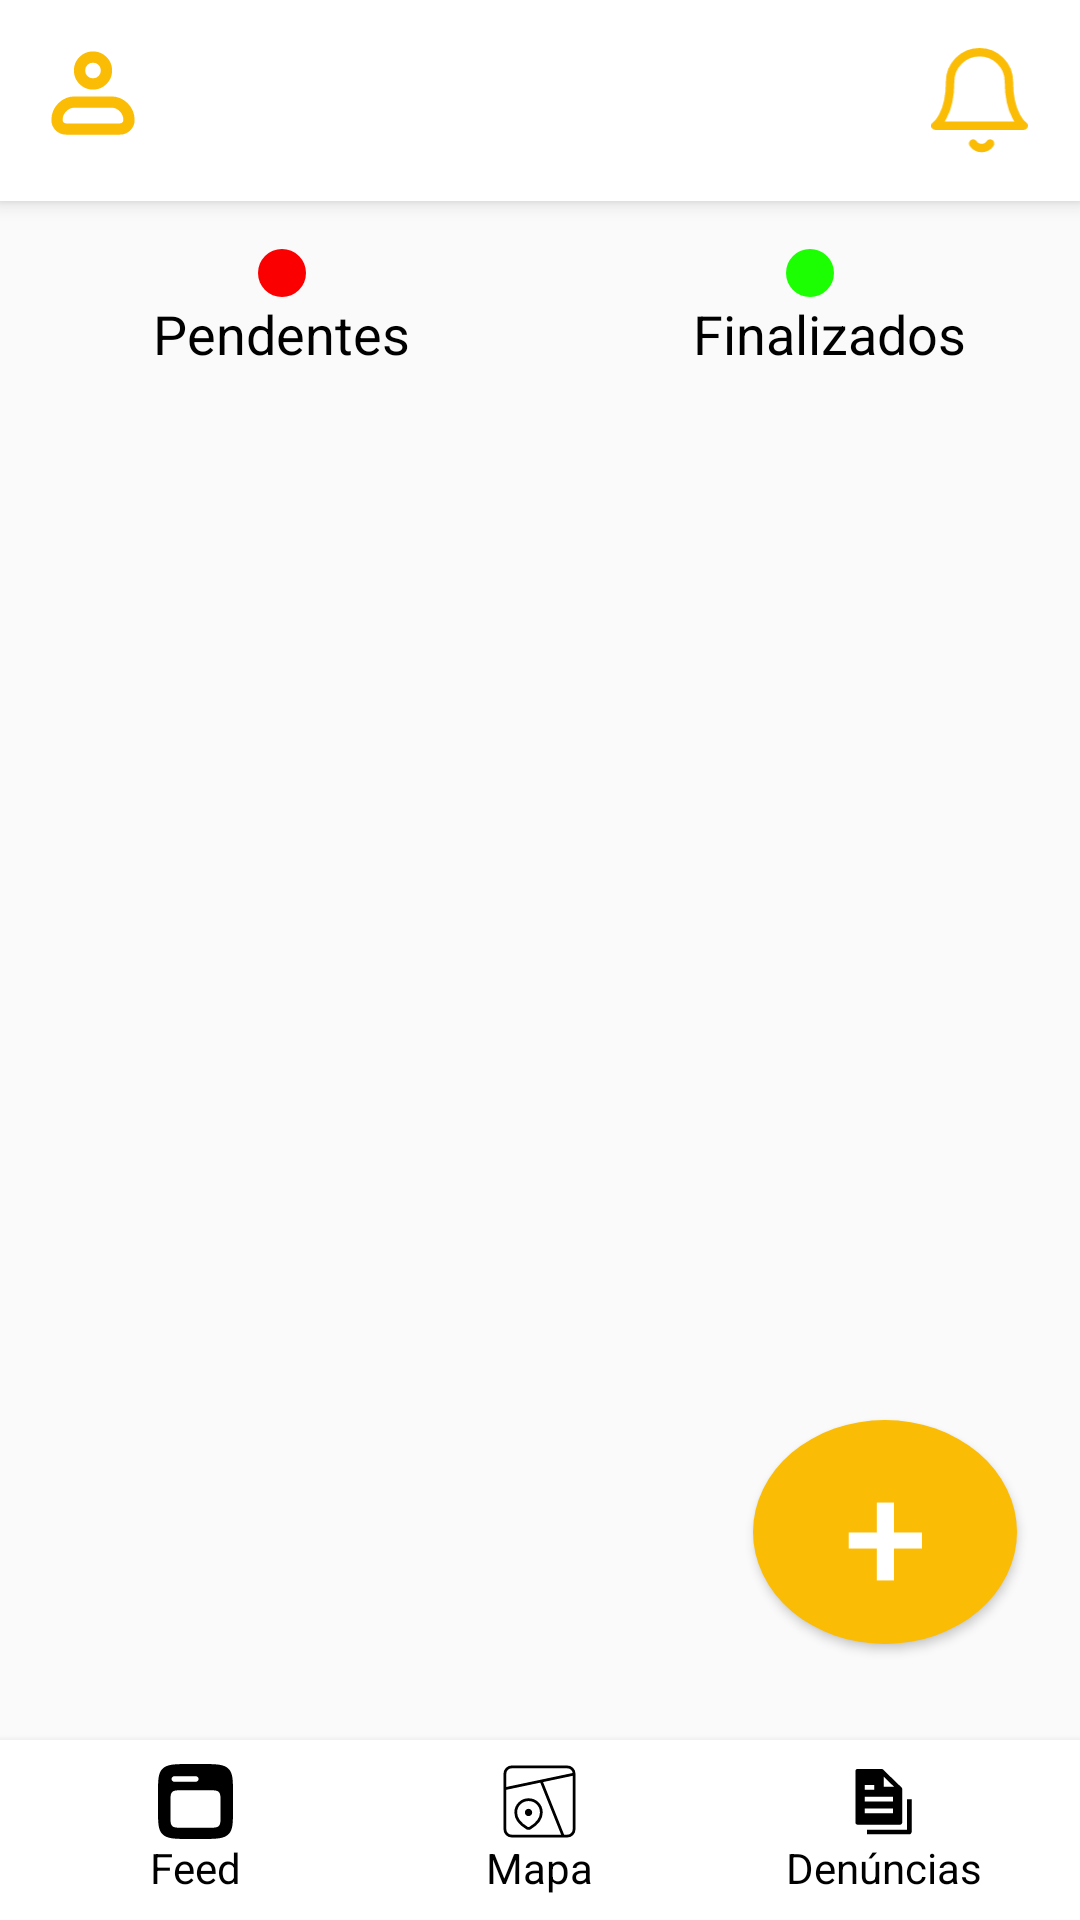

Screen size 1080w x 1920h. Icon name, then its box in pixels as (x1, y1, x2, y2):
Ícone Notificação: (931, 48, 1028, 153)
